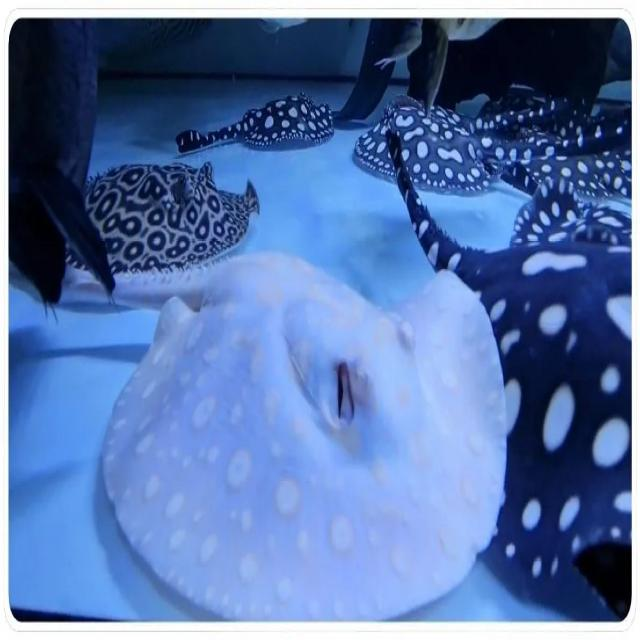albino-sting-ray: (96, 247, 508, 640)
black-diamond-sting-ray: (503, 101, 640, 613), (62, 105, 257, 276), (496, 52, 640, 213), (356, 62, 483, 216), (182, 58, 346, 171)
